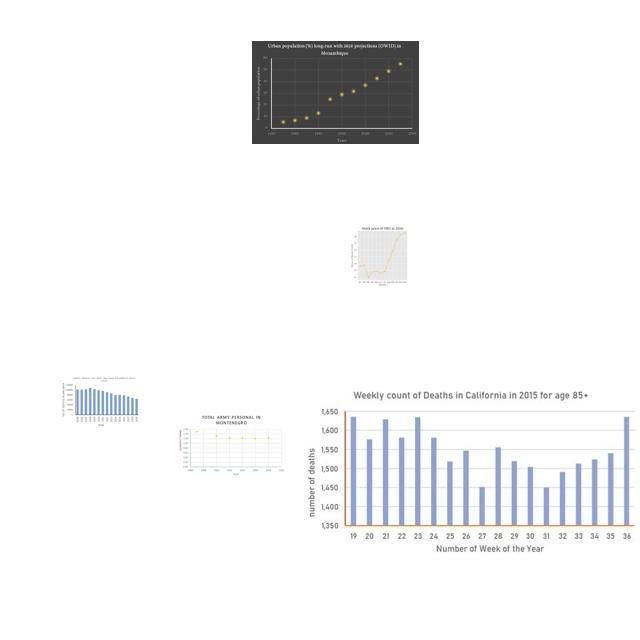Graph: (304, 386, 636, 557), (252, 41, 419, 144), (177, 414, 285, 477), (339, 223, 424, 287), (61, 376, 140, 428)
